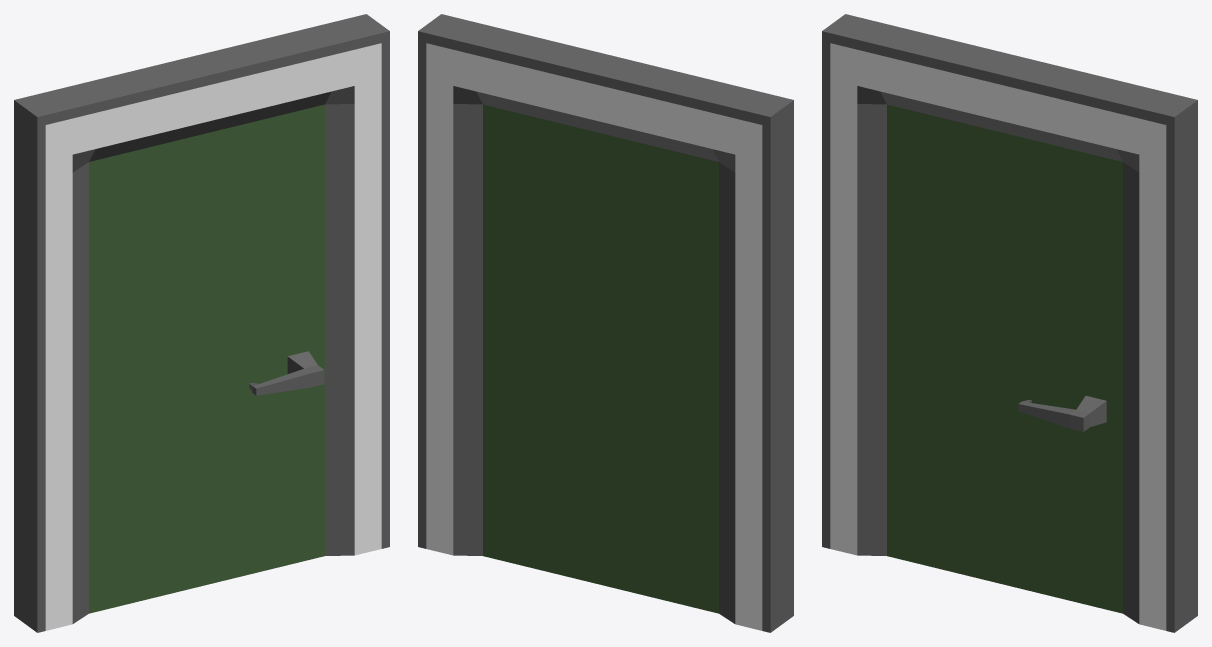
Rendered from Green Door.fbx.
3 views of the same model, side by side, from view 1: azimuth 30°, elevation 25°; view 2: azimuth 150°, elevation 25°; view 3: azimuth 330°, elevation 25° (orthographic).
Parts seen in each view (by area): view 1: Cube; view 2: Cube; view 3: Cube.
Part boxes in pixels (x1,y1,x2,y2): Cube: (14, 14, 389, 632); Cube: (418, 14, 793, 632); Cube: (822, 14, 1197, 632).
Size of the model in its own units: 324 by 453 by 57.7.
